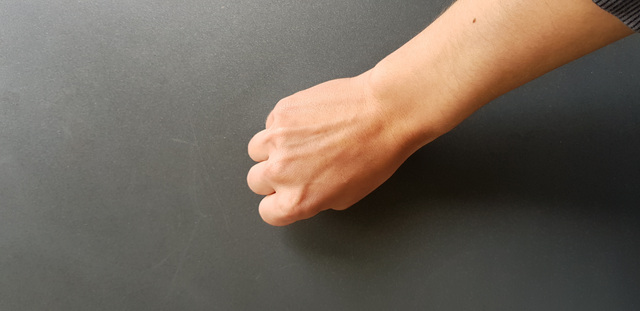Rock: (217, 70, 428, 244)
